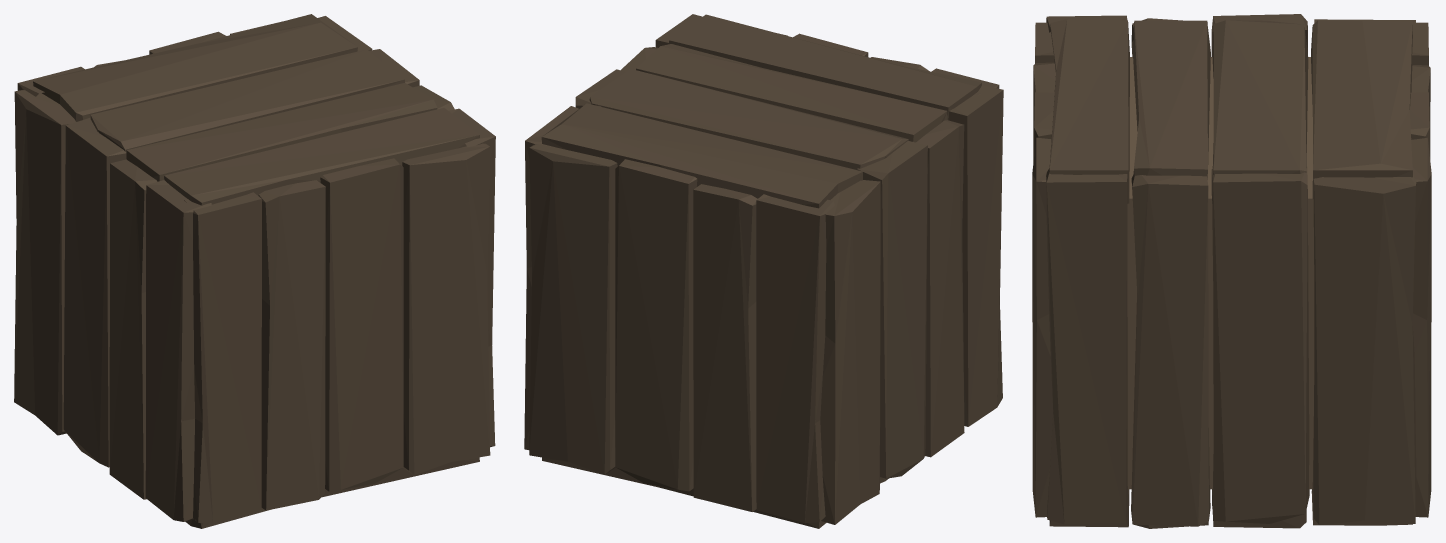
The model's file is ripped_box.glb.
3 renders of one model, left to right at view 1: azimuth 30°, elevation 25°; view 2: azimuth 150°, elevation 25°; view 3: azimuth 270°, elevation 25°, orthographic. The views are drawn at different scales.
Parts seen in each view (by area): view 1: box5; view 2: box5; view 3: box5.
Boxes of the visible parts, x1,y1,x2,y2 form: box5: (14, 14, 495, 528); box5: (524, 14, 1003, 528); box5: (1032, 14, 1431, 528).
Size of the model in its own units: 0.8631 by 0.8631 by 0.8631.
